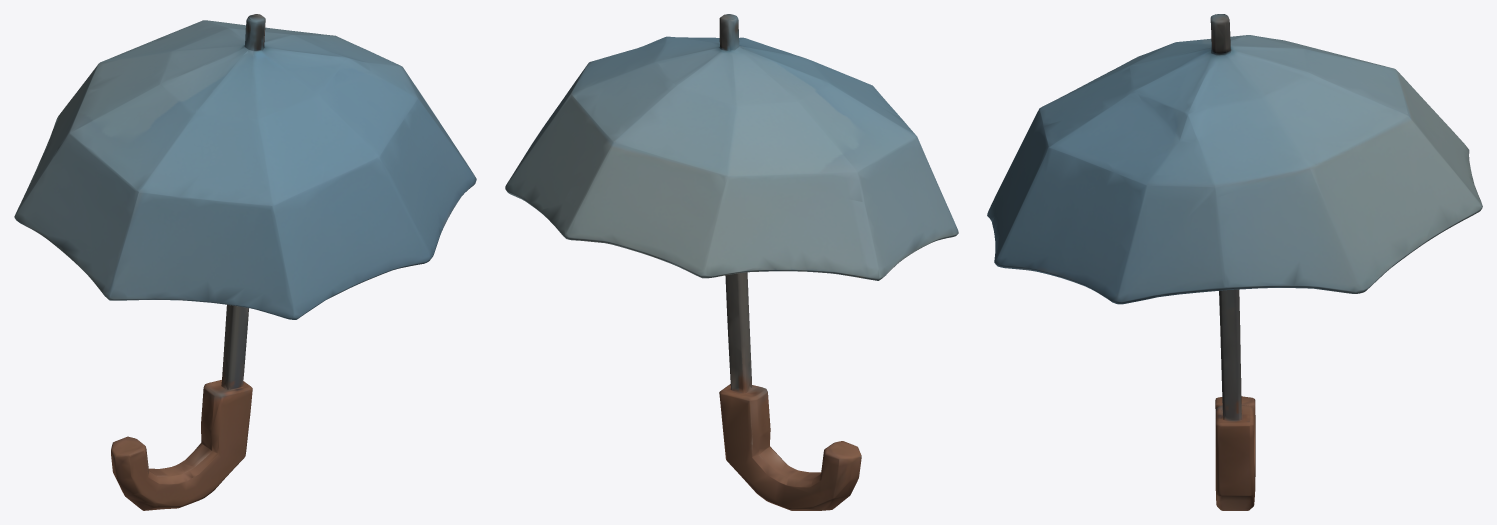
The model's file is umbrella.fbx.
3 views of the same model, side by side, from view 1: azimuth 30°, elevation 25°; view 2: azimuth 150°, elevation 25°; view 3: azimuth 270°, elevation 25° (orthographic). The views are drawn at different scales.
Visible parts, largest first — view 1: umbrella; view 2: umbrella; view 3: umbrella.
Boxes of the visible parts, x1,y1,x2,y2 form: umbrella: [14, 14, 476, 510]; umbrella: [505, 14, 958, 510]; umbrella: [987, 14, 1482, 510].
Size of the model in its own units: 33.56 by 39.8 by 33.95.
Materials: 1 (1 with a texture image).
